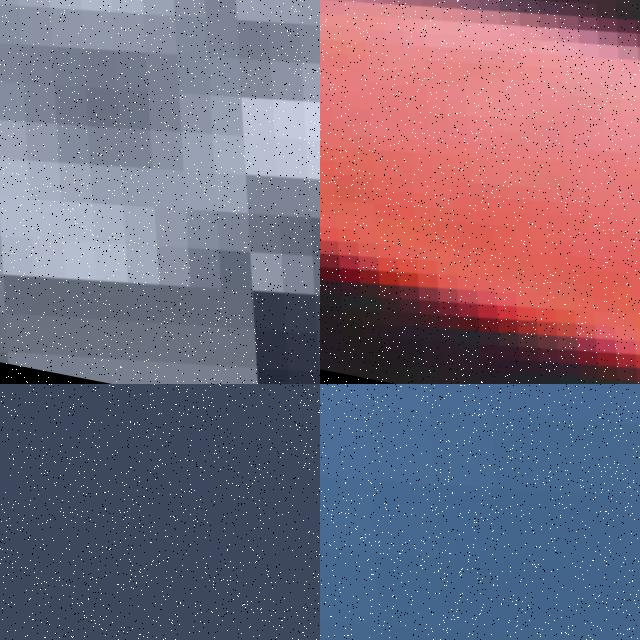0: (0, 0, 320, 384)
drone: (320, 0, 640, 384), (320, 384, 640, 640)
